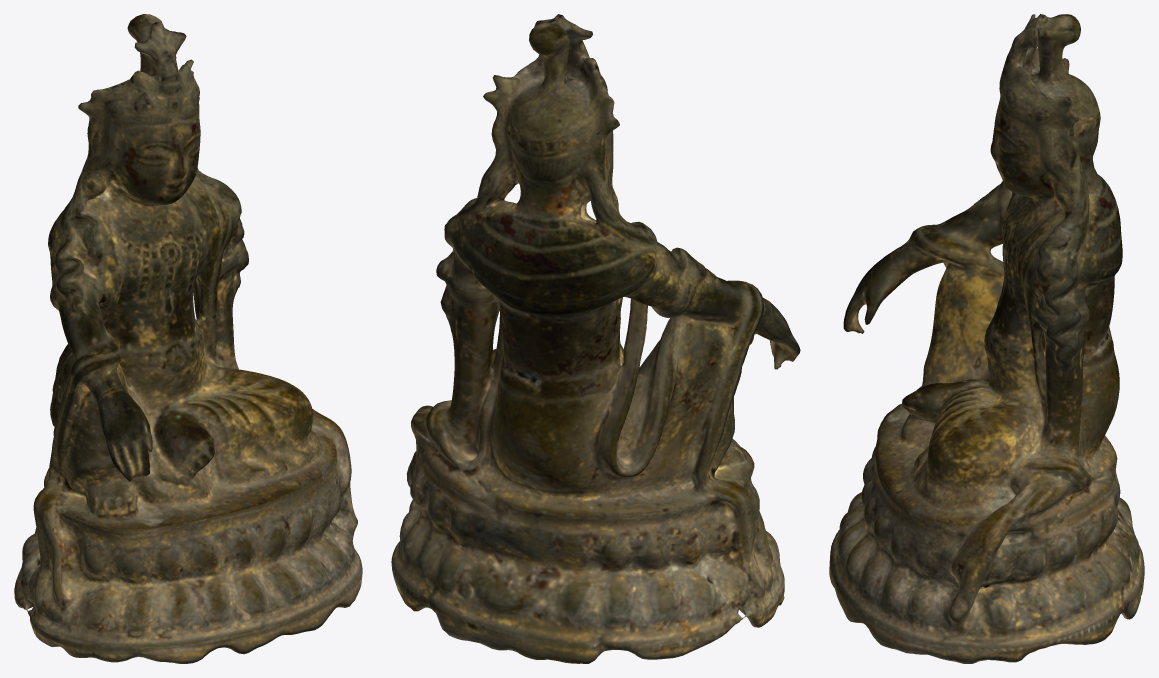
The model's file is SM_008_Statue_of_the_Buddha.FBX.
3 renders of one model, left to right at view 1: azimuth 30°, elevation 25°; view 2: azimuth 150°, elevation 25°; view 3: azimuth 270°, elevation 25°, orthographic. The views are drawn at different scales.
Parts seen in each view (by area): view 1: SM_008_Statue_of_the_Buddha; view 2: SM_008_Statue_of_the_Buddha; view 3: SM_008_Statue_of_the_Buddha.
Boxes of the visible parts, <box> form: SM_008_Statue_of_the_Buddha: <box>14,14,362,663</box>; SM_008_Statue_of_the_Buddha: <box>391,14,800,663</box>; SM_008_Statue_of_the_Buddha: <box>829,14,1144,663</box>.
Bounding box in the file's own units: 7.62 × 12.73 × 6.33.
